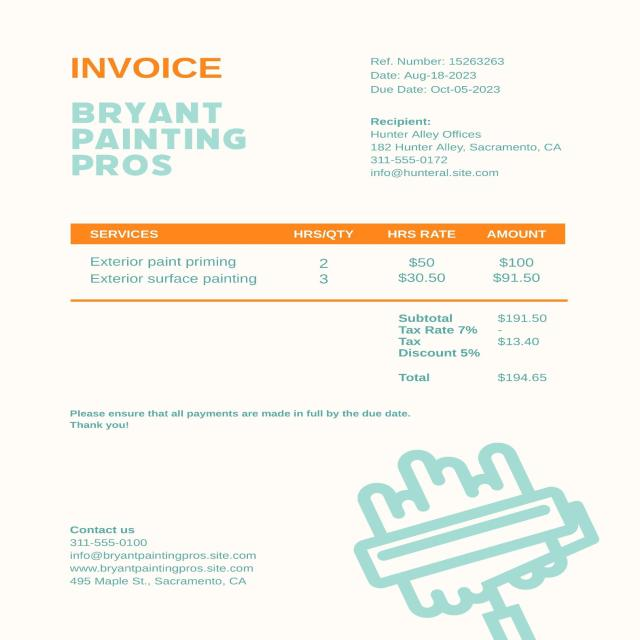paragraph: (59, 91, 255, 190), (385, 303, 573, 392), (61, 515, 272, 593), (359, 106, 569, 184), (64, 404, 422, 438), (362, 50, 512, 100), (56, 52, 233, 82)
table: (66, 222, 570, 292)
